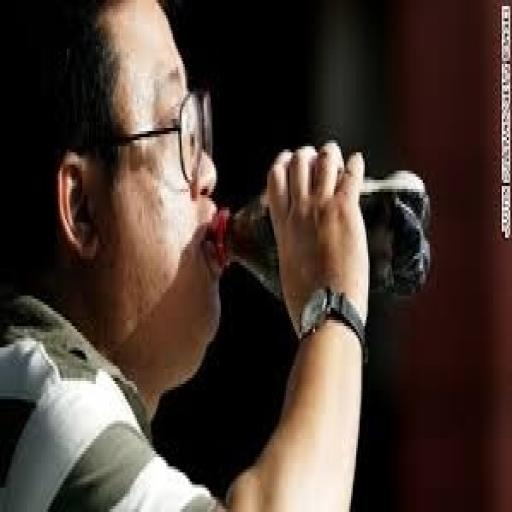drinking: (0, 162, 432, 466)
